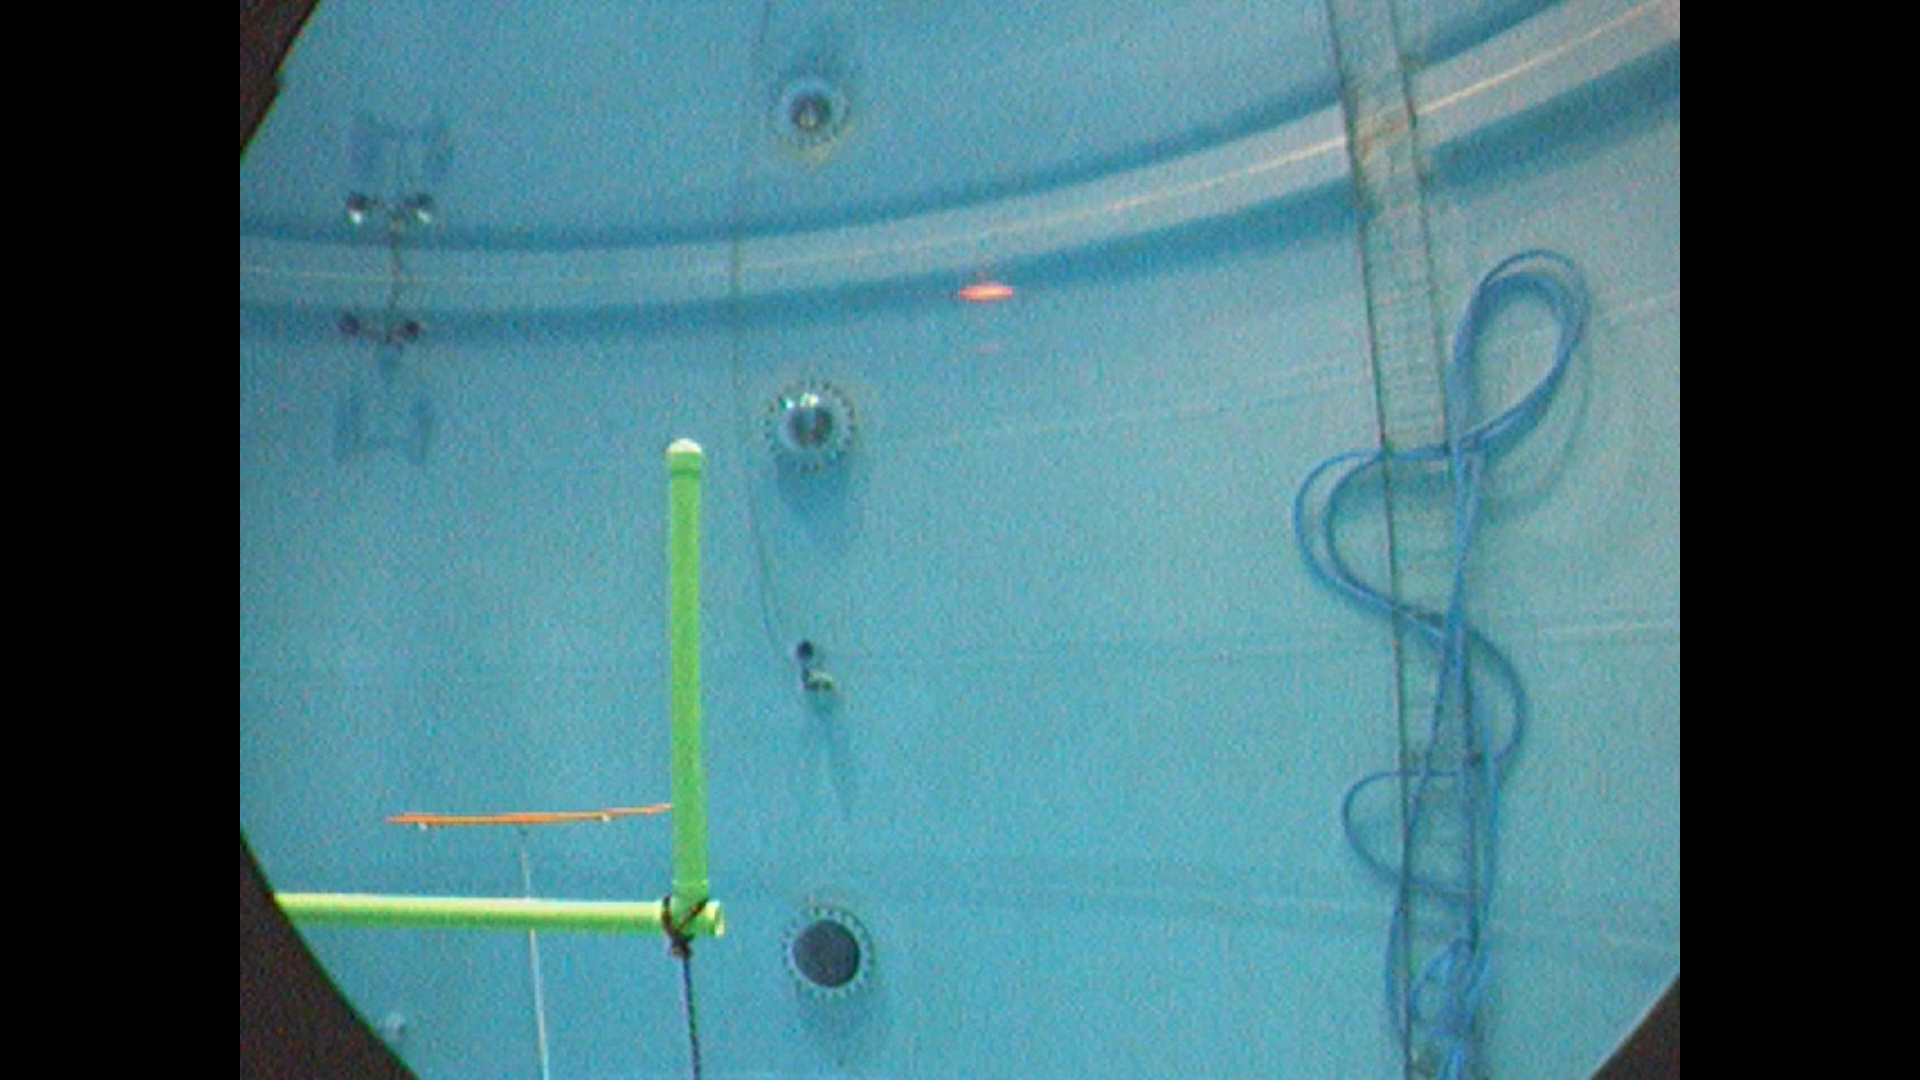gate: (237, 431, 713, 942)
